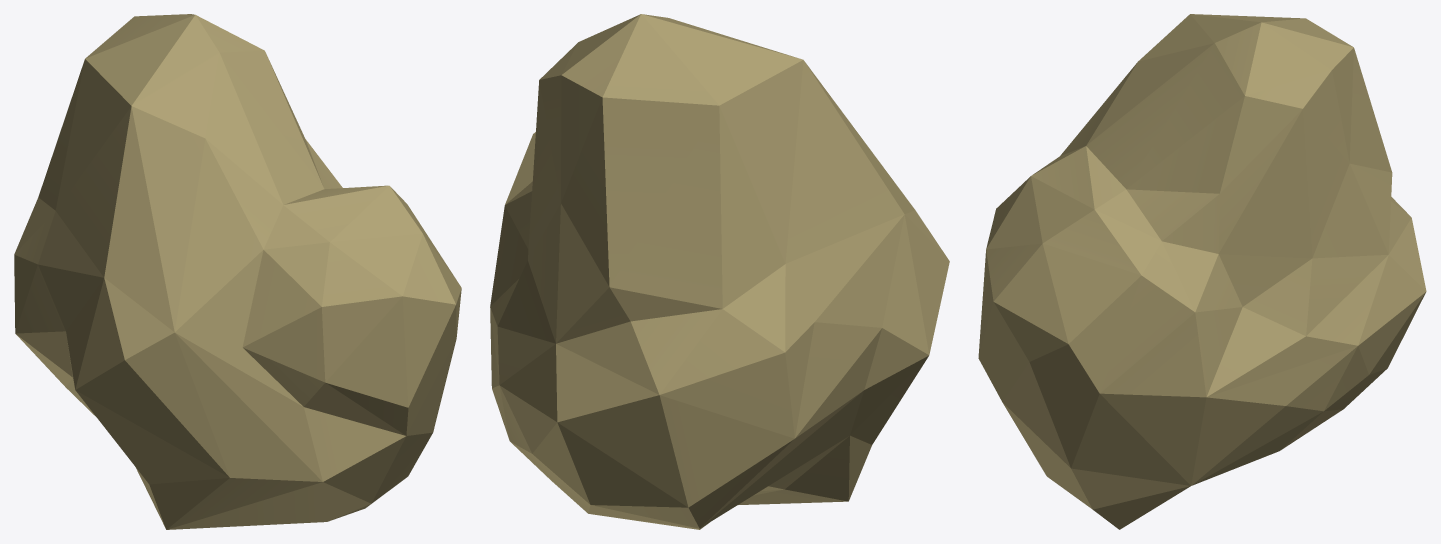
Rendered from SM_small_rock_62.fbx.
3 views of the same model, side by side, from view 1: azimuth 30°, elevation 25°; view 2: azimuth 150°, elevation 25°; view 3: azimuth 270°, elevation 25° (orthographic). The views are drawn at different scales.
Parts seen in each view (by area): view 1: small_rock_62; view 2: small_rock_62; view 3: small_rock_62.
Boxes of the visible parts, box(x1,y1,x2,y2) form: small_rock_62: box(14, 14, 461, 529); small_rock_62: box(490, 14, 949, 529); small_rock_62: box(978, 14, 1426, 529).
Bounding box in the file's own units: 111 × 139 × 122.
